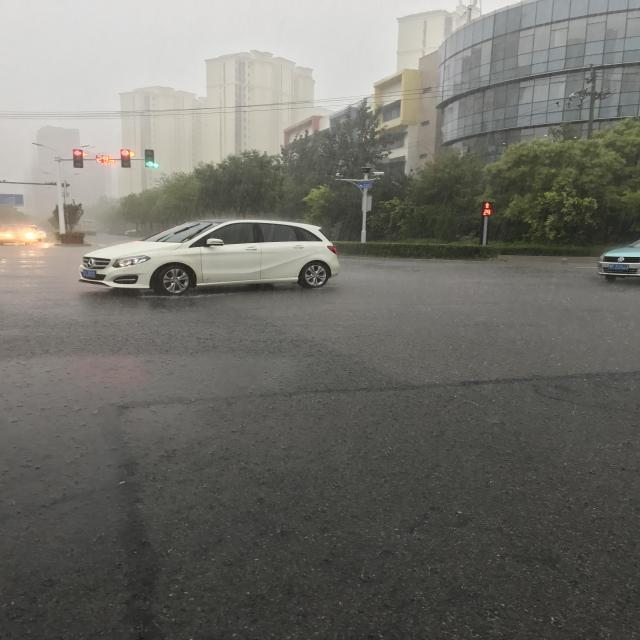car: (217, 298, 297, 564), (242, 0, 284, 40)
